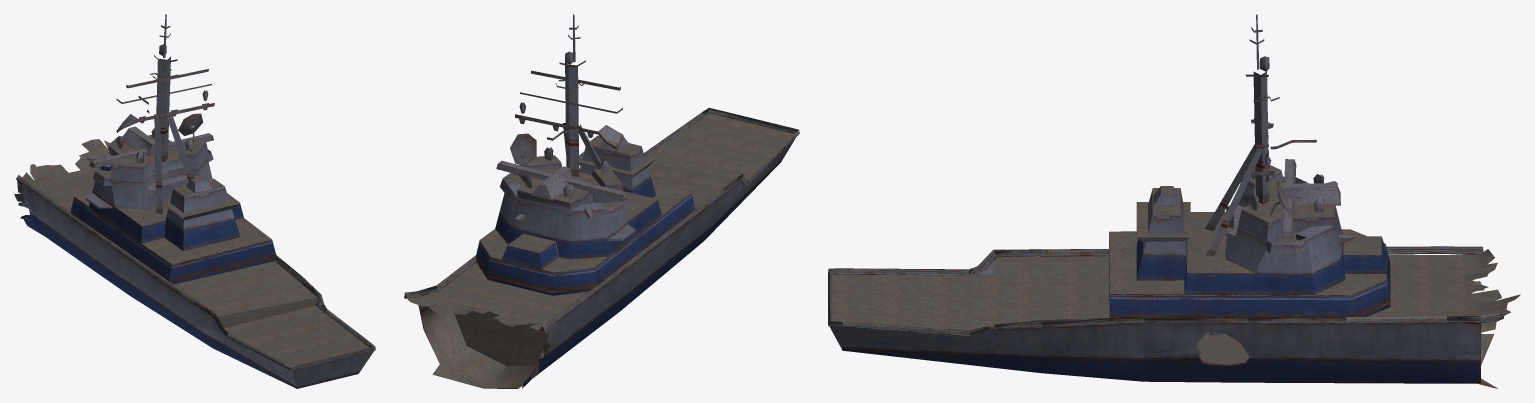
Rendered from Prop_DjShip003b_lod2.glb.
3 renders of one model, left to right at view 1: azimuth 30°, elevation 25°; view 2: azimuth 150°, elevation 25°; view 3: azimuth 270°, elevation 25°, orthographic. The views are drawn at different scales.
Visible parts, largest first — view 1: dj_ship003b_lod2_0; view 2: dj_ship003b_lod2_0; view 3: dj_ship003b_lod2_0.
Boxes of the visible parts, x1=… form: dj_ship003b_lod2_0: x1=14, y1=14, x2=375, y2=388; dj_ship003b_lod2_0: x1=404, y1=14, x2=799, y2=388; dj_ship003b_lod2_0: x1=828, y1=14, x2=1520, y2=388.
Size of the model in its own units: 28.44 by 60.19 by 104.
Materials: 2 (2 with a texture image).
